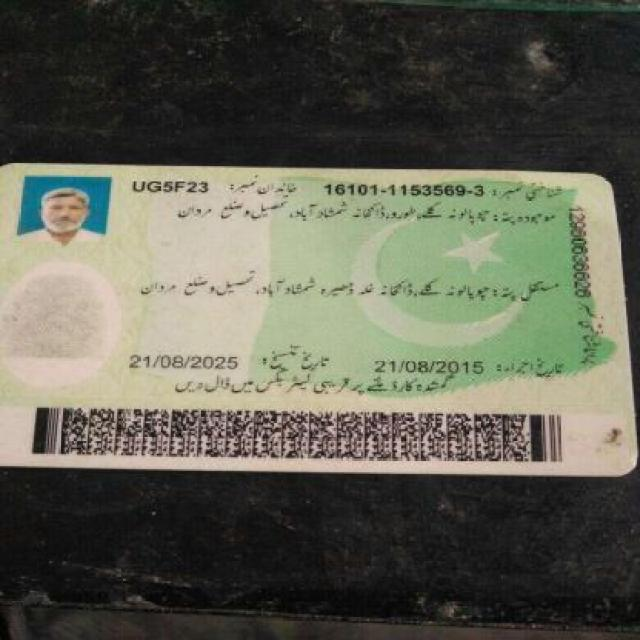Back: (1, 152, 640, 479)
